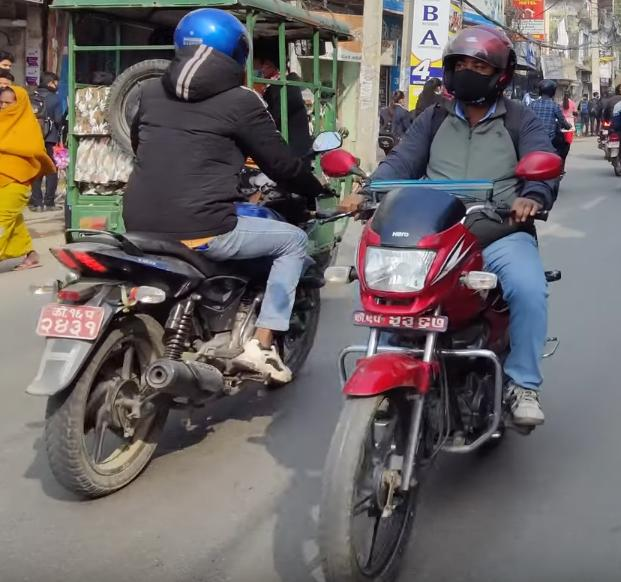bike: (23, 119, 347, 497), (313, 142, 566, 582)
